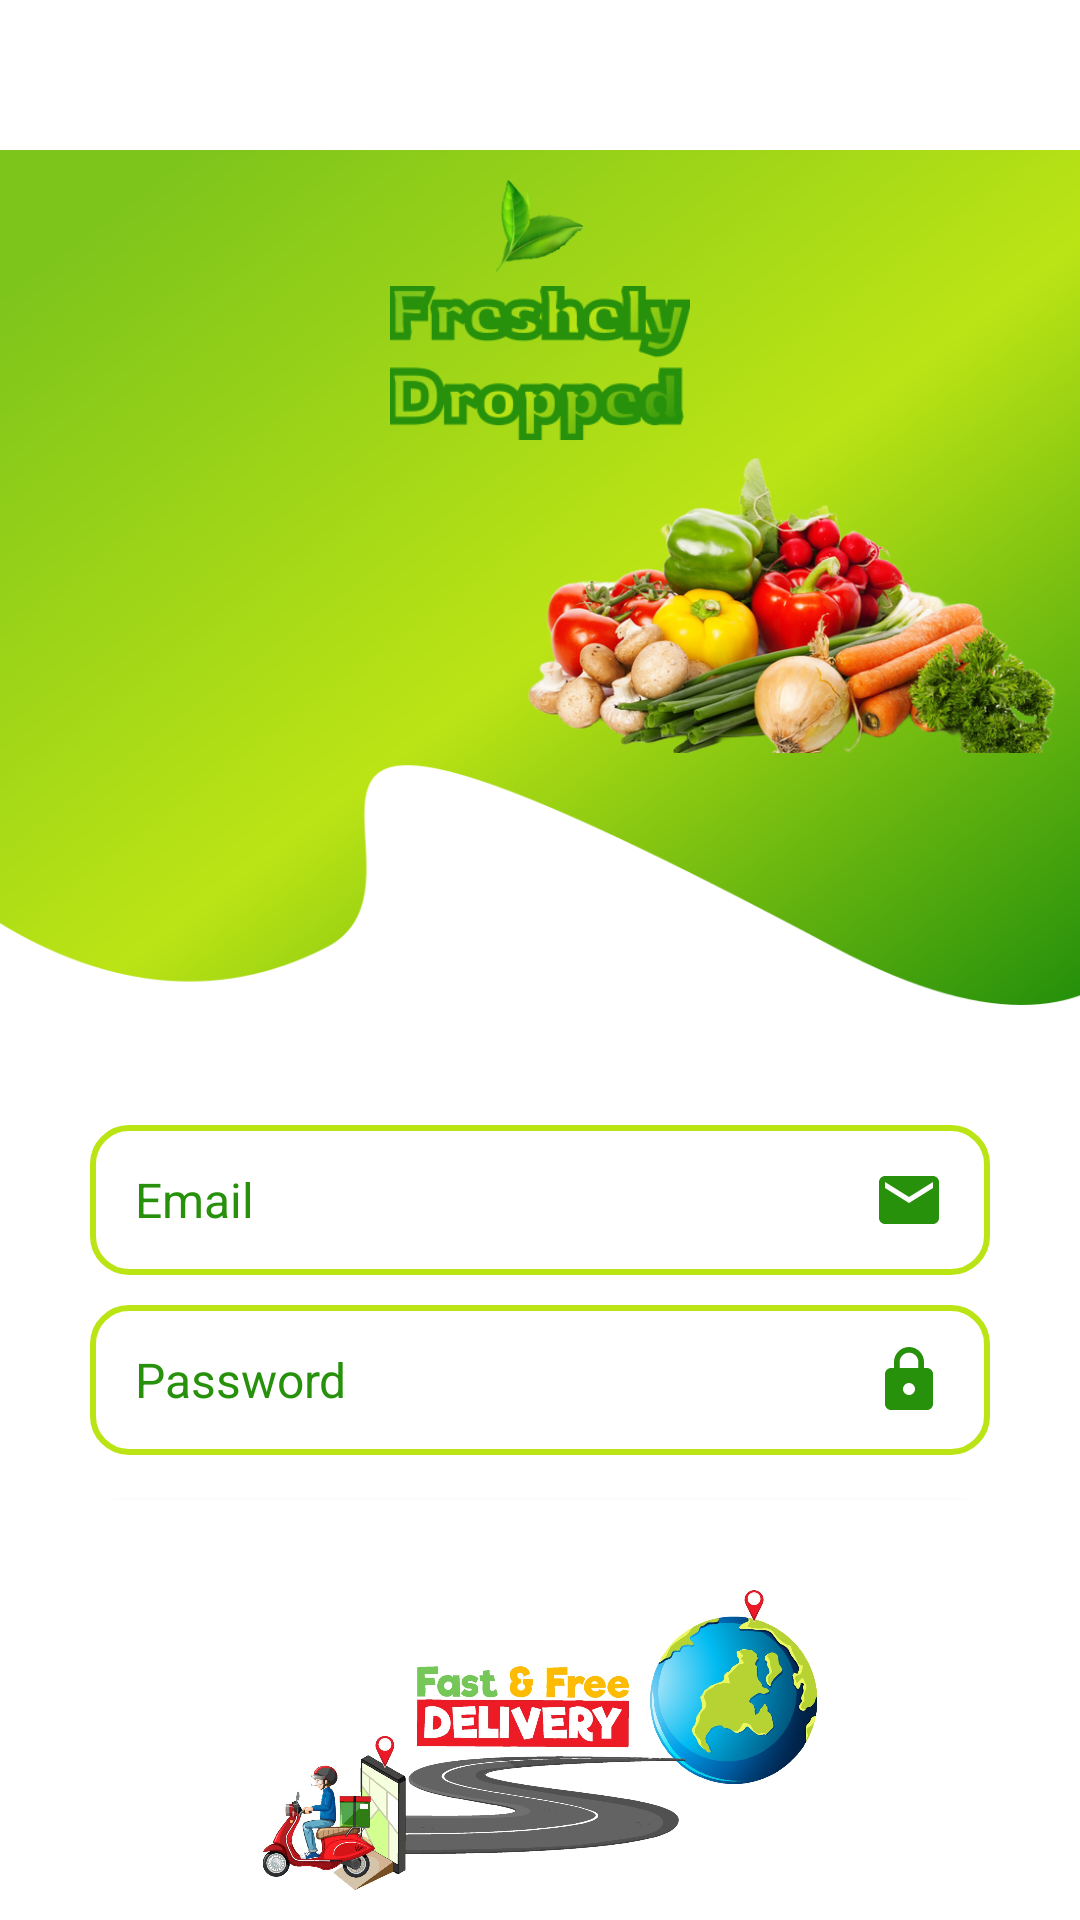

Screen size 1080×1920. Icon name, then its box in pixels as (x1, y1, x2, y2):
home leaf: (496, 180, 583, 272)
